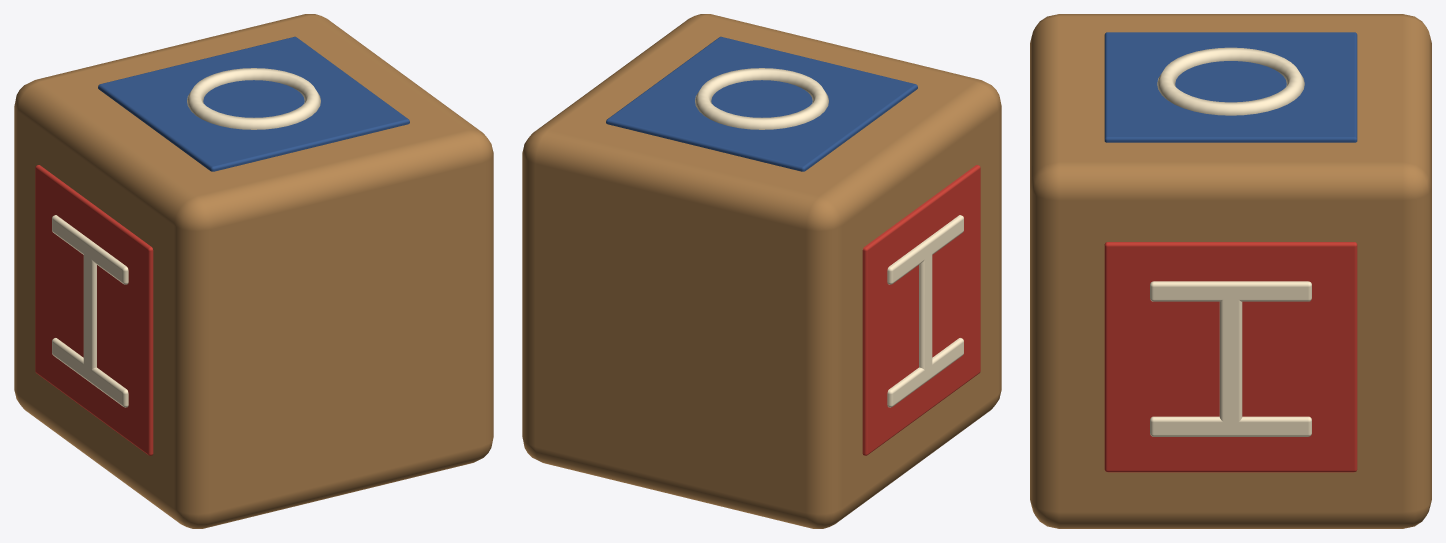
Rendered from wood-cube-light.glb.
3 views of the same model, side by side, from view 1: azimuth 30°, elevation 25°; view 2: azimuth 150°, elevation 25°; view 3: azimuth 270°, elevation 25° (orthographic). The views are drawn at different scales.
Visible parts, largest first — view 1: wood, red, blue, ivory; view 2: wood, red, blue, ivory; view 3: wood, red, blue, ivory.
Boxes of the visible parts, x1,y1,x2,y2 form: wood: (14,14,493,528); red: (35,165,153,455); blue: (98,36,409,171); ivory: (52,68,320,407); wood: (522,14,1001,528); red: (862,165,980,455); blue: (606,36,917,171); ivory: (695,68,963,407); wood: (1030,14,1431,528); red: (1104,242,1357,472); blue: (1104,32,1357,142); ivory: (1150,47,1311,436).
Size of the model in its own units: 0.653 by 0.6622 by 0.62.
